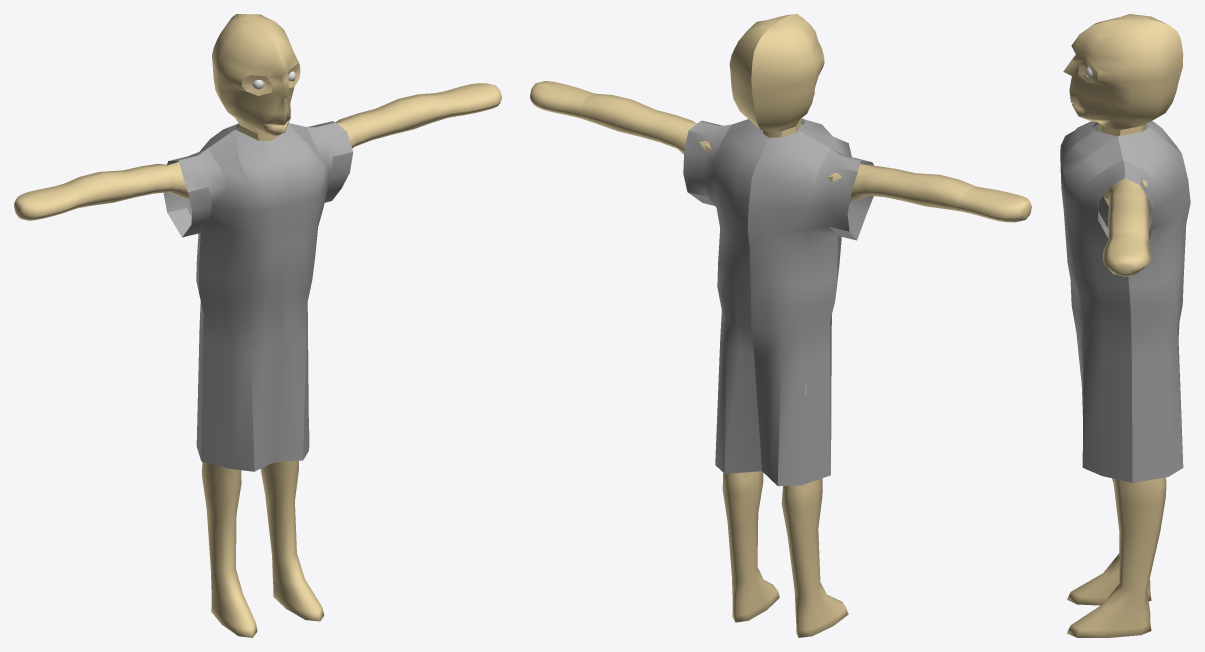
File: Child.fbx
3 views of the same model, side by side, from view 1: azimuth 30°, elevation 25°; view 2: azimuth 150°, elevation 25°; view 3: azimuth 270°, elevation 25° (orthographic). The views are drawn at different scales.
Visible parts, largest first — view 1: polySurface39, polySurface37, polySurface33, polySurface36, polySurface34; view 2: polySurface39, polySurface33, polySurface37, polySurface34, polySurface36; view 3: polySurface39, polySurface36, polySurface34, polySurface37.
Boxes of the visible parts, box(x1,y1,x2,y2) form: polySurface39: box(163, 14, 353, 471); polySurface37: box(199, 354, 257, 637); polySurface33: box(14, 162, 189, 220); polySurface36: box(260, 460, 324, 621); polySurface34: box(335, 83, 501, 148); polySurface39: box(683, 14, 873, 486); polySurface33: box(828, 164, 1031, 222); polySurface37: box(781, 383, 848, 637); polySurface34: box(530, 81, 710, 154); polySurface36: box(722, 471, 779, 622); polySurface39: box(1060, 14, 1190, 482); polySurface36: box(1067, 477, 1166, 637); polySurface34: box(1102, 178, 1150, 276); polySurface37: box(1067, 553, 1151, 605).
Bounding box in the file's own units: 91.4 × 106 × 20.99.
